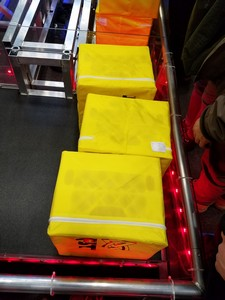cube: (49, 151, 169, 260)
